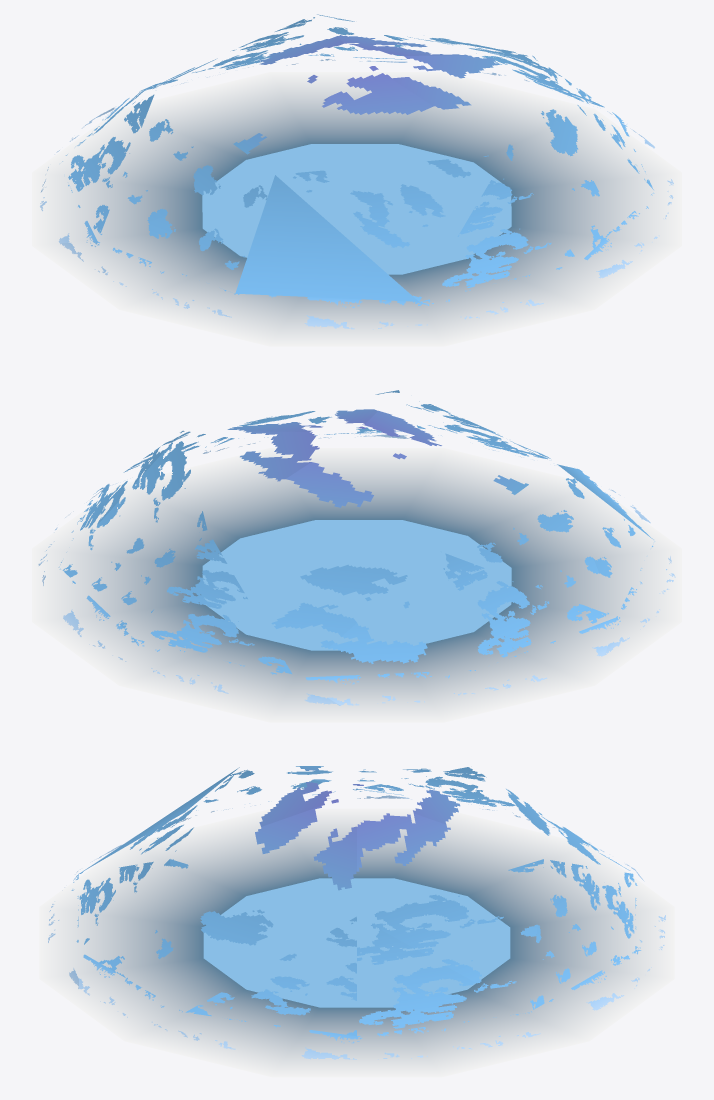
File: uvmd-0369.glb
3 views of the same model, one above another, from view 1: azimuth 30°, elevation 25°; view 2: azimuth 150°, elevation 25°; view 3: azimuth 270°, elevation 25° (orthographic). The views are drawn at different scales.
Visible parts, largest first — view 1: uvmd-0369; view 2: uvmd-0369; view 3: uvmd-0369.
Boxes of the visible parts, x1,y1,x2,y2 form: uvmd-0369: (32, 14, 681, 346); uvmd-0369: (32, 390, 681, 722); uvmd-0369: (39, 766, 674, 1077).
Bounding box in the file's own units: 11486 × 3004 × 12078.
Materials: 6 (6 with a texture image).
